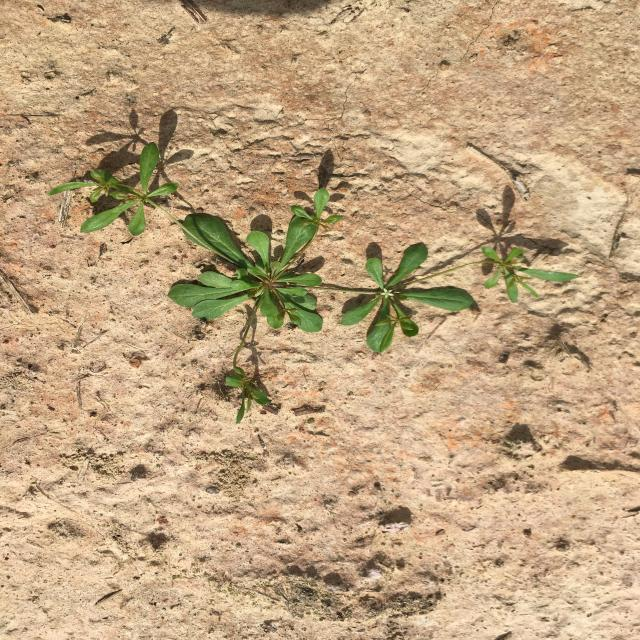Carpetweed: (47, 142, 579, 425)
